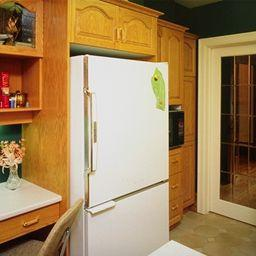Electrodomestico: (81, 53, 171, 242)
Puerta: (205, 42, 254, 224)
